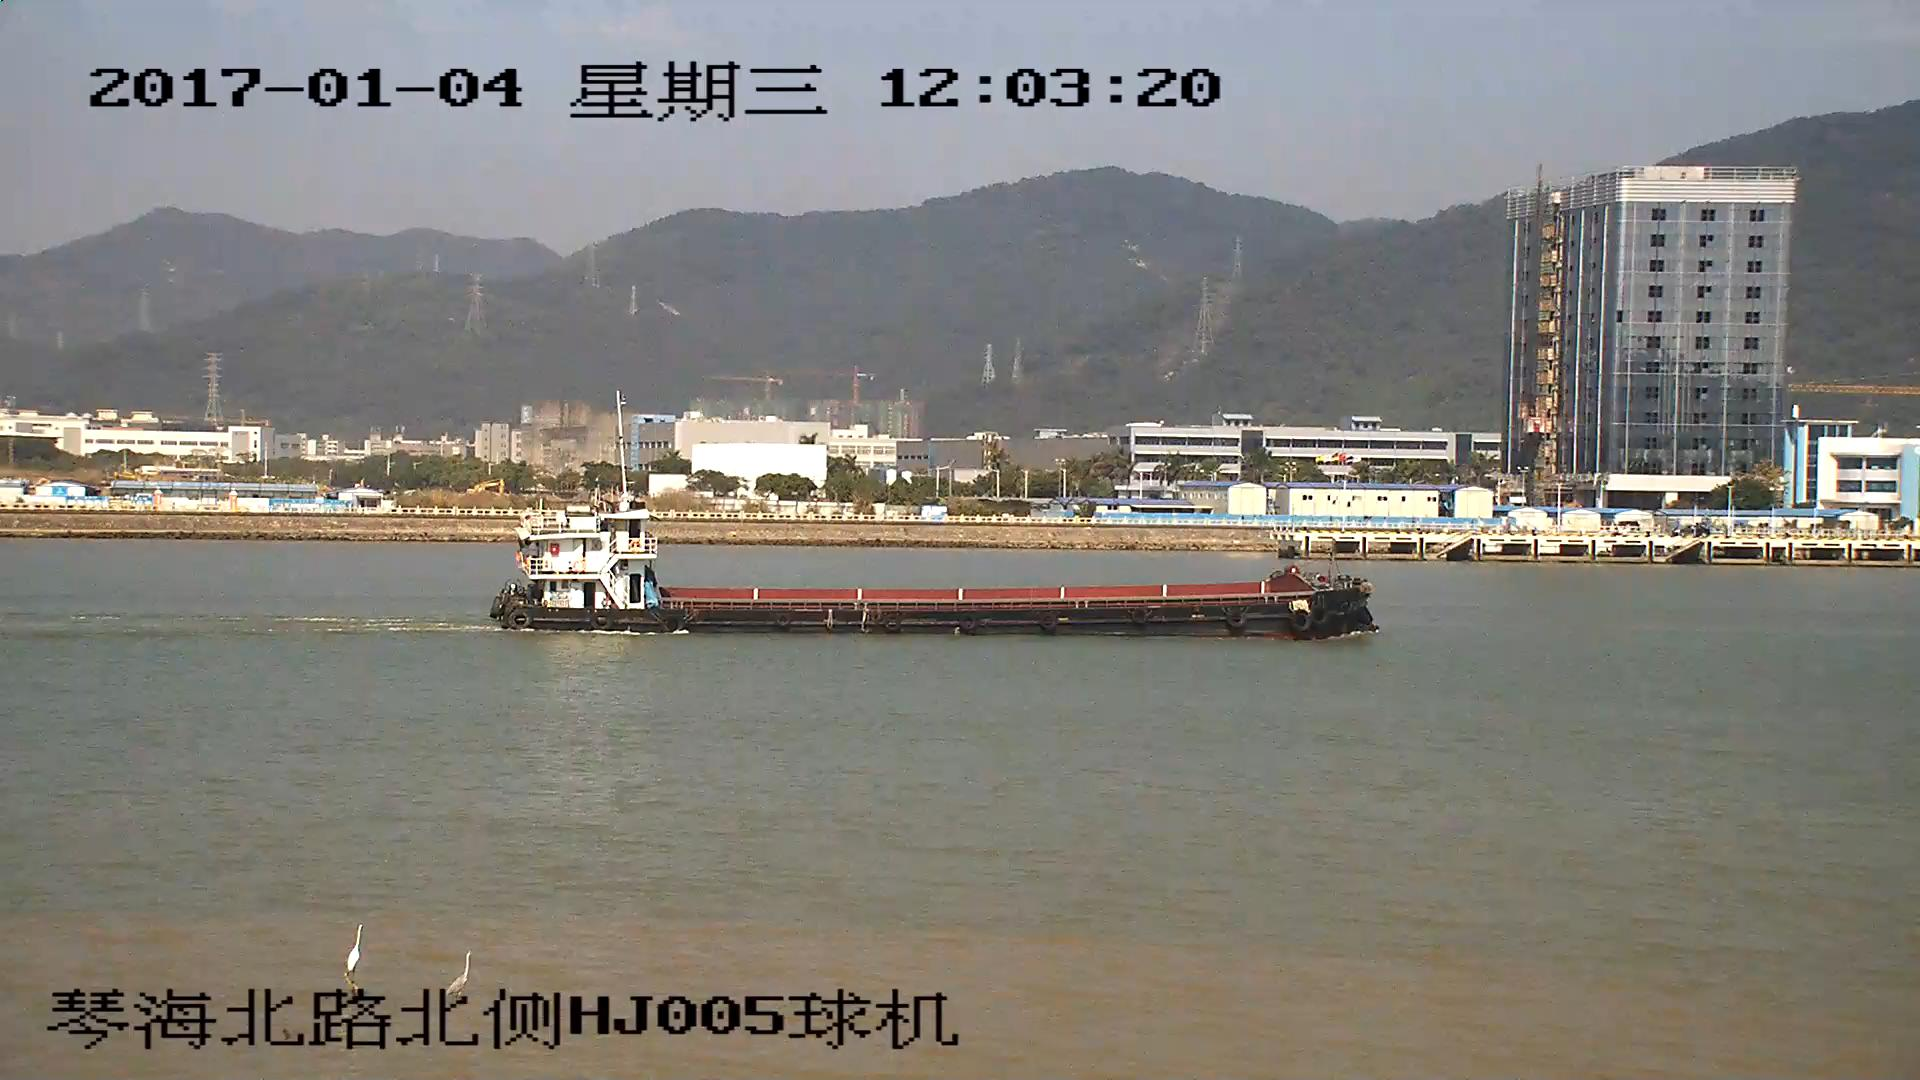general cargo ship: (490, 510, 1376, 637)
